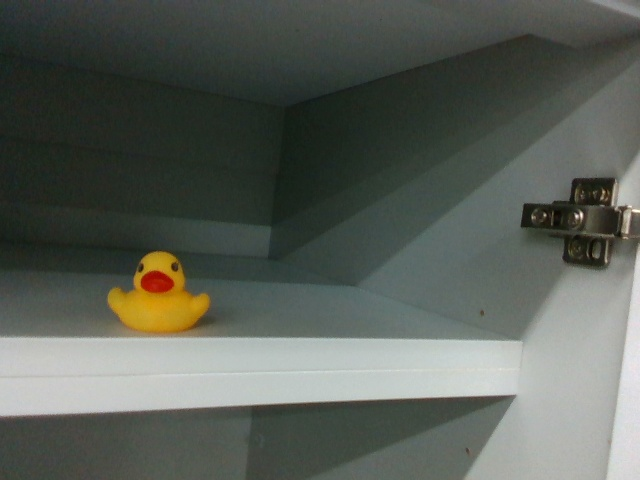duck: (107, 247, 216, 329)
